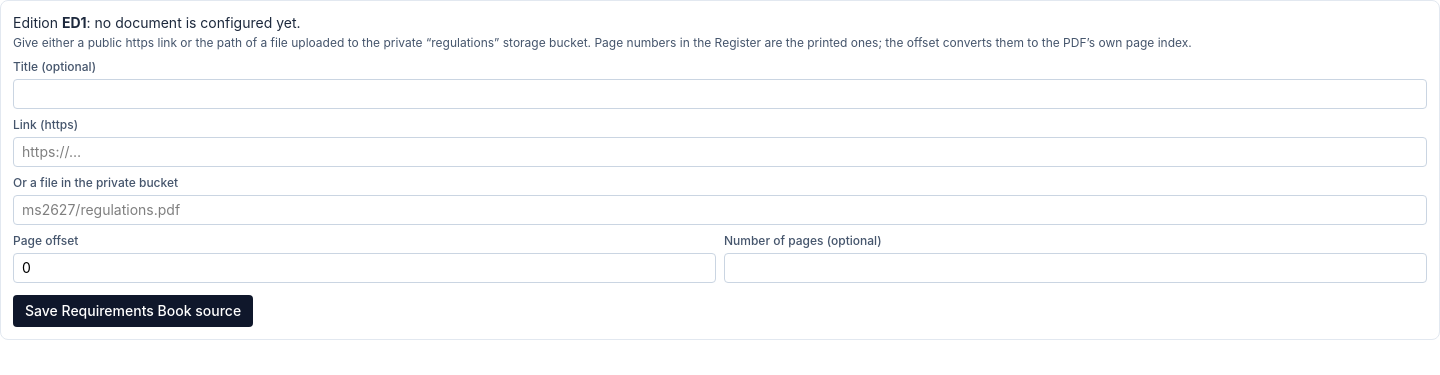
Test case: configuring the Requirements Book › refuses the storage path /etc/passwd
The width and height of the screenshot is (1440, 375).
In the field labelled "Or a file in the private bucket": (720, 210) [13, 195, 1427, 225], type "/etc/passwd"
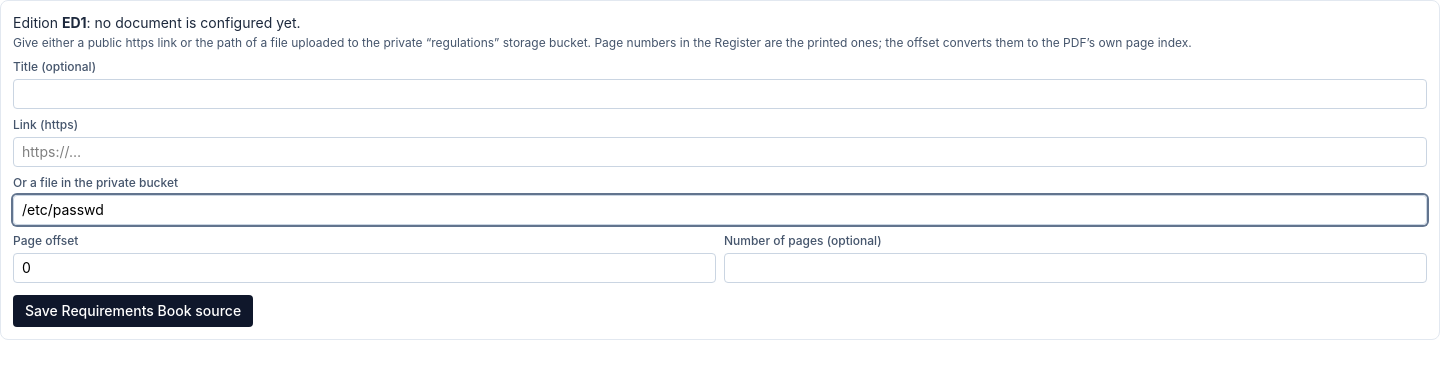
Click the button "Save Requirements Book source": click(133, 311) [13, 295, 253, 327]
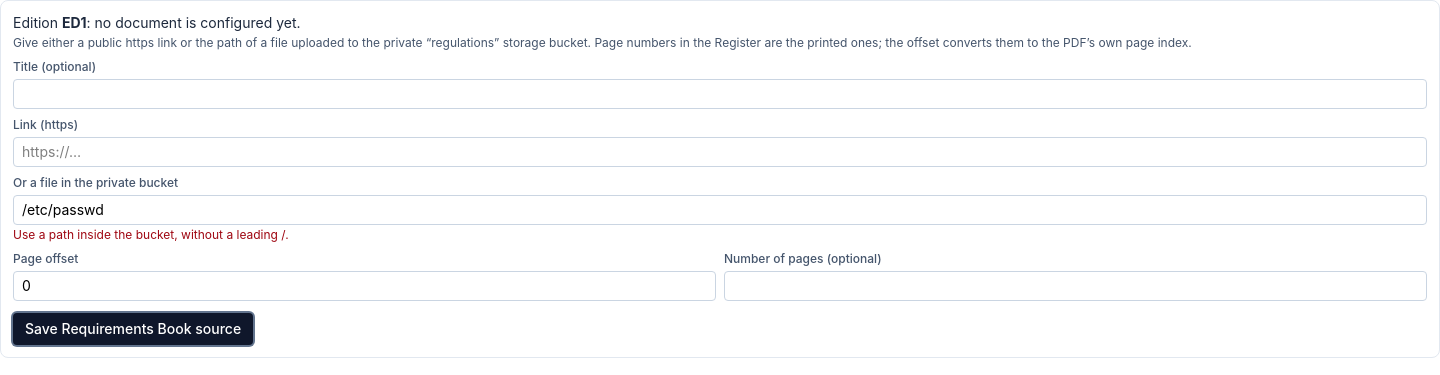
Now the message "Use a path inside the bucket, without a leading /." is shown, box [13, 227, 289, 242]
